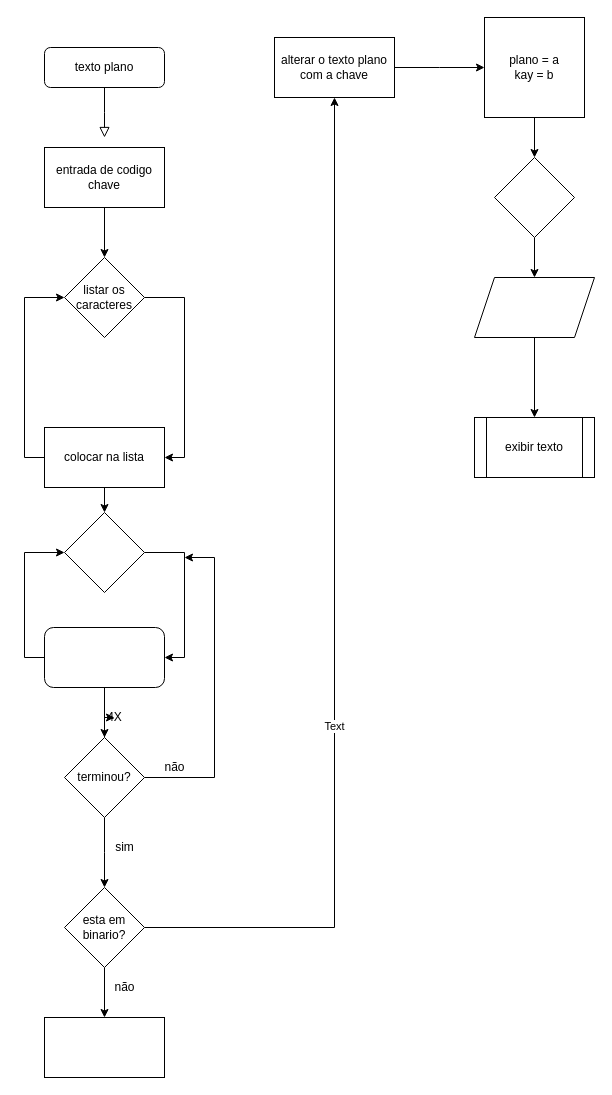
Some shapes in this 612 by 1095 pixel diagram are drawn without their labels. Here are the shapes that lost their labels. From the top down, the centre of each, then its label:
At point 534,197: "(-a.b)+(a.(-b)".
At point 534,307: "texto cifrado".
At point 104,552: "quebrar lista em dois".
At point 104,657: "converter para octal".
At point 104,1047: "converter lista para binario".
